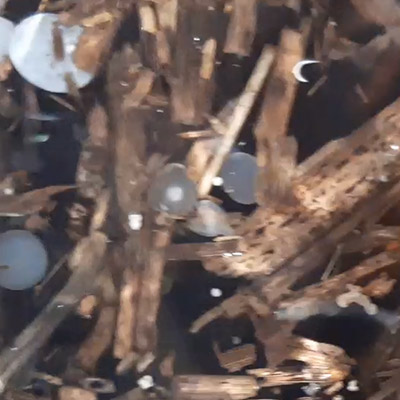nurdle: (5, 13, 108, 91), (218, 151, 278, 211), (147, 163, 206, 222), (2, 229, 53, 290)
